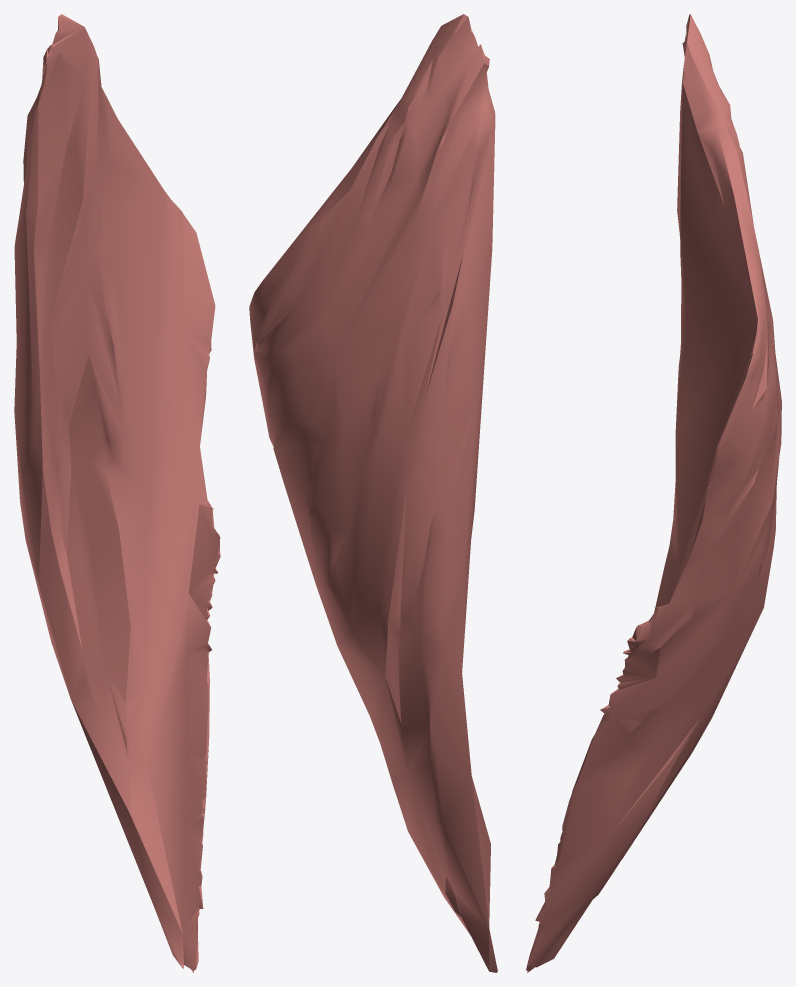
Rendered from fma37705_fj1485.glb.
The picture shows the model from 3 angles, left to right: view 1: azimuth 30°, elevation 25°; view 2: azimuth 150°, elevation 25°; view 3: azimuth 270°, elevation 25°; orthographic projection. The views are drawn at different scales.
Parts seen in each view (by area): view 1: FMA37705_FJ1485; view 2: FMA37705_FJ1485; view 3: FMA37705_FJ1485.
Part boxes in pixels (x1,y1,x2,y2): FMA37705_FJ1485: [14, 14, 220, 972]; FMA37705_FJ1485: [249, 14, 497, 972]; FMA37705_FJ1485: [526, 14, 781, 972].
Bounding box in the file's own units: 0.023 × 0.1014 × 0.0252.
